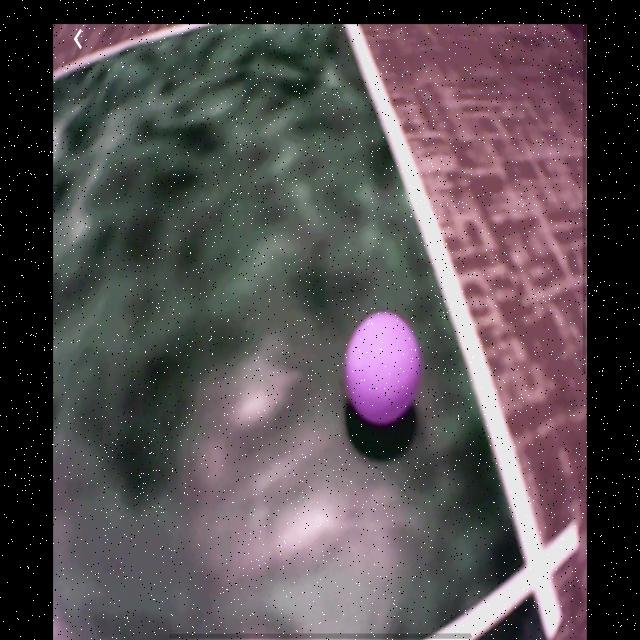ball: (344, 313, 421, 426)
